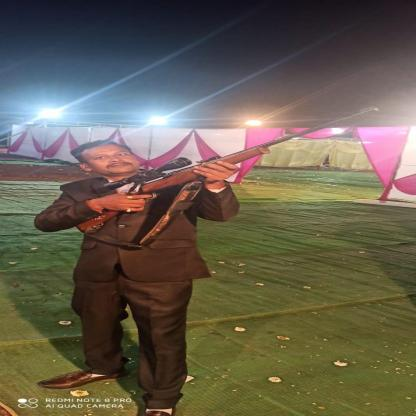rifle: (72, 105, 383, 235)
